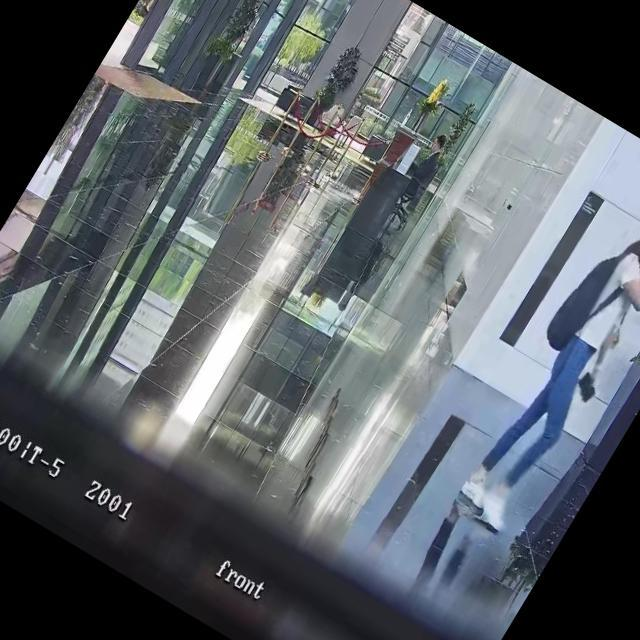person: (454, 184, 640, 533), (402, 130, 451, 200)
